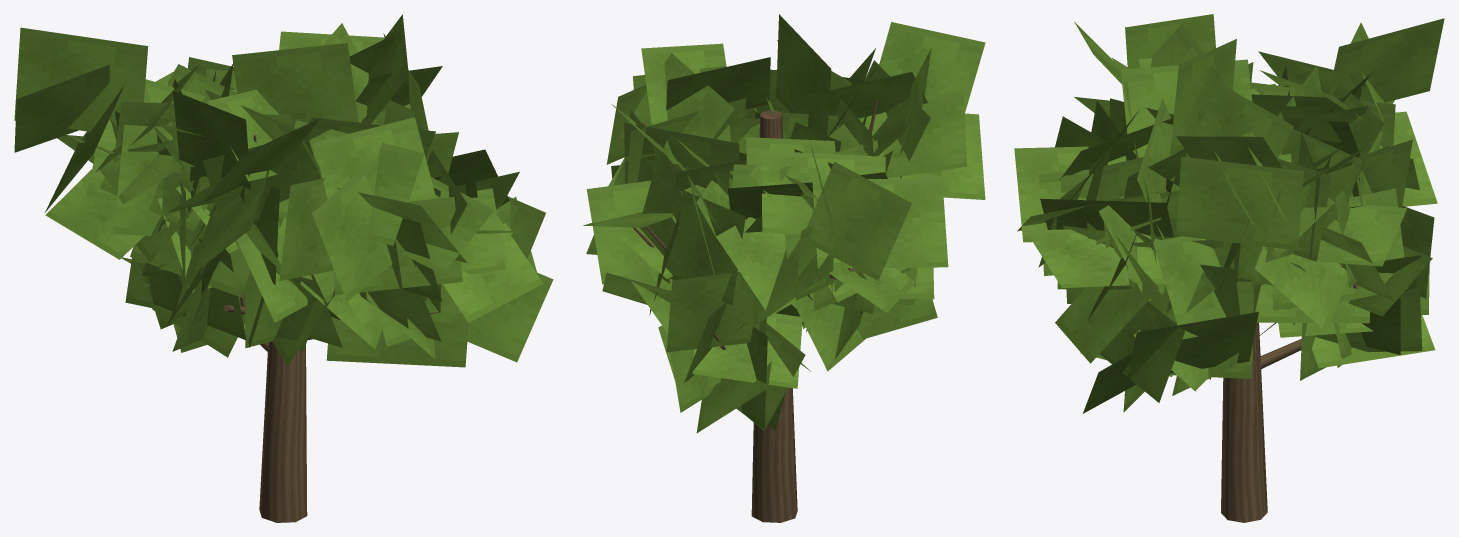
3 views of the same model, side by side, from view 1: azimuth 30°, elevation 25°; view 2: azimuth 150°, elevation 25°; view 3: azimuth 270°, elevation 25° (orthographic). The views are drawn at different scales.
Parts seen in each view (by area): view 1: oak-leaf, oak-bark; view 2: oak-leaf, oak-bark; view 3: oak-leaf, oak-bark.
Boxes of the visible parts, x1=… form: oak-leaf: x1=14, y1=14, x2=553, y2=367; oak-bark: x1=223, y1=135, x2=438, y2=522; oak-leaf: x1=583, y1=14, x2=985, y2=432; oak-bark: x1=633, y1=100, x2=877, y2=522; oak-leaf: x1=1014, y1=14, x2=1444, y2=413; oak-bark: x1=1221, y1=105, x2=1369, y2=522.
Size of the model in its own units: 8.22 by 9.14 by 7.71.
2 materials, 2 textured.
